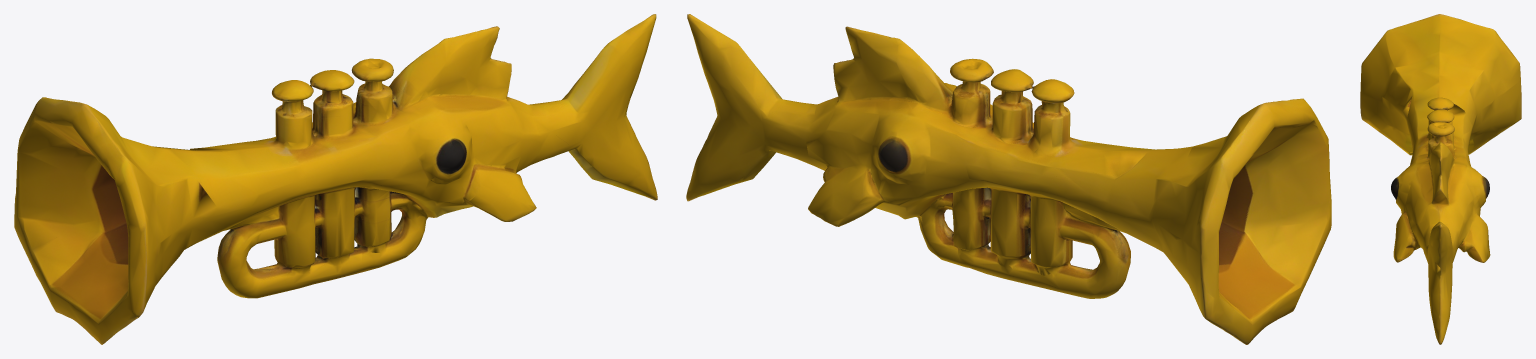
Rendered from Meshy_AI_A_Low_Poly_fish_that__0528232843_texture.obj.
The picture shows the model from 3 angles, left to right: view 1: azimuth 30°, elevation 25°; view 2: azimuth 150°, elevation 25°; view 3: azimuth 270°, elevation 25°; orthographic projection. The views are drawn at different scales.
Visible parts, largest first — view 1: Meshy_AI_A_Low_Poly_fish_that__0528232843_texture; view 2: Meshy_AI_A_Low_Poly_fish_that__0528232843_texture; view 3: Meshy_AI_A_Low_Poly_fish_that__0528232843_texture.
Part boxes in pixels (x1,y1,x2,y2): Meshy_AI_A_Low_Poly_fish_that__0528232843_texture: (14, 14, 657, 344); Meshy_AI_A_Low_Poly_fish_that__0528232843_texture: (686, 14, 1331, 344); Meshy_AI_A_Low_Poly_fish_that__0528232843_texture: (1360, 14, 1521, 344).
Bounding box in the file's own units: 2 × 0.7719 × 0.7455.
1 material, 1 textured.
